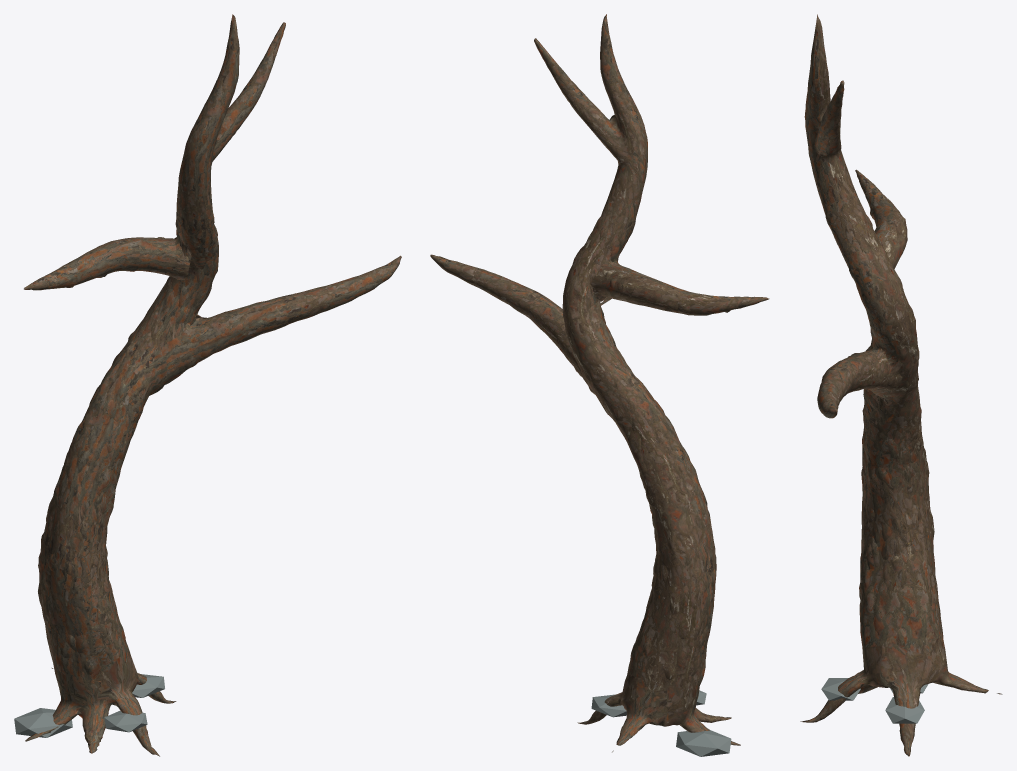
The model's file is pine-036-wood-mobile.glb.
The picture shows the model from 3 angles, left to right: view 1: azimuth 30°, elevation 25°; view 2: azimuth 150°, elevation 25°; view 3: azimuth 270°, elevation 25°; orthographic projection. The views are drawn at different scales.
Parts seen in each view (by area): view 1: H36 fused trunk roots and principal branches, H36 broad torn bark physical flakes, H36 embedded slope stone 00, H36 embedded slope stone 02; view 2: H36 fused trunk roots and principal branches, H36 broad torn bark physical flakes, H36 embedded slope stone 00; view 3: H36 fused trunk roots and principal branches, H36 broad torn bark physical flakes, H36 embedded slope stone 01, H36 embedded slope stone 02.
Boxes of the visible parts, x1,y1,x2,y2 form: H36 fused trunk roots and principal branches: [24, 14, 401, 756]; H36 broad torn bark physical flakes: [38, 208, 232, 676]; H36 embedded slope stone 00: [14, 708, 72, 737]; H36 embedded slope stone 02: [104, 710, 147, 732]; H36 fused trunk roots and principal branches: [430, 14, 769, 752]; H36 broad torn bark physical flakes: [565, 216, 731, 685]; H36 embedded slope stone 00: [676, 730, 731, 756]; H36 fused trunk roots and principal branches: [800, 14, 1002, 756]; H36 broad torn bark physical flakes: [825, 187, 937, 647]; H36 embedded slope stone 01: [885, 697, 924, 723]; H36 embedded slope stone 02: [821, 678, 860, 700].
Size of the model in its own units: 4.2 by 7.82 by 1.93.
2 materials, 1 textured.
